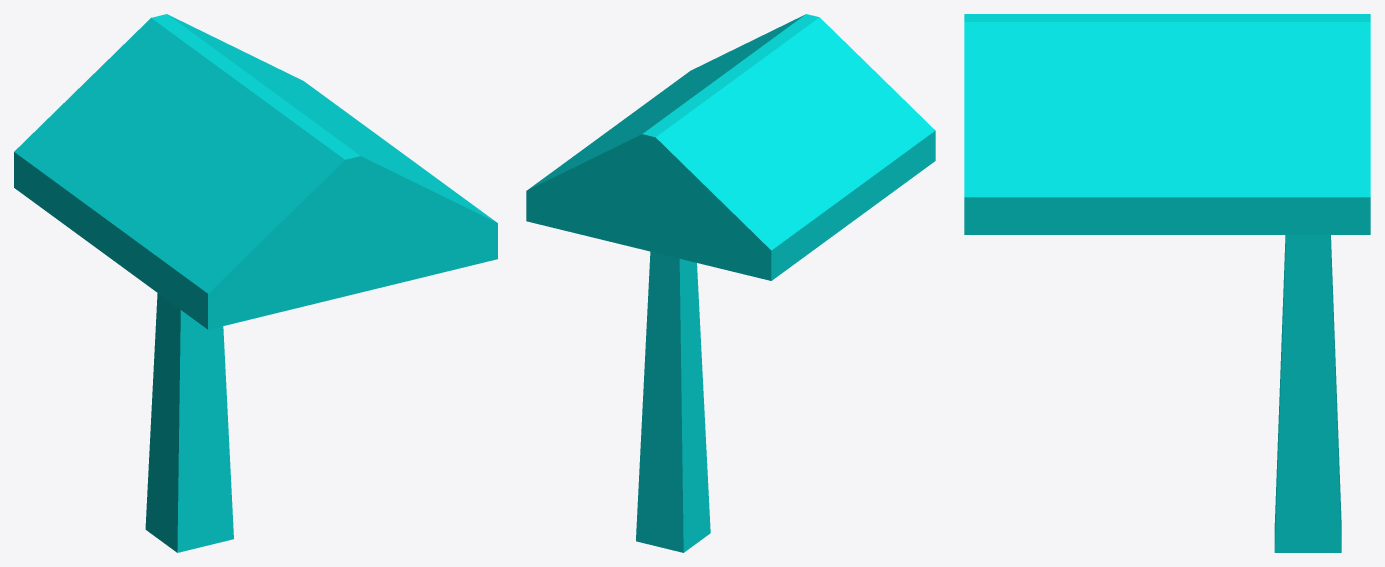
Rendered from SM_Prop_Well_Roof_01_Collision.fbx.
3 views of the same model, side by side, from view 1: azimuth 30°, elevation 25°; view 2: azimuth 150°, elevation 25°; view 3: azimuth 270°, elevation 25° (orthographic). The views are drawn at different scales.
Visible parts, largest first — view 1: SM_Prop_Well_Roof_01_Collision; view 2: SM_Prop_Well_Roof_01_Collision; view 3: SM_Prop_Well_Roof_01_Collision.
Part boxes in pixels (box(x1,y1,x2,y2)): SM_Prop_Well_Roof_01_Collision: box(14, 14, 497, 552); SM_Prop_Well_Roof_01_Collision: box(526, 14, 935, 552); SM_Prop_Well_Roof_01_Collision: box(964, 14, 1370, 552).
Size of the model in its own units: 193 by 316 by 223.
